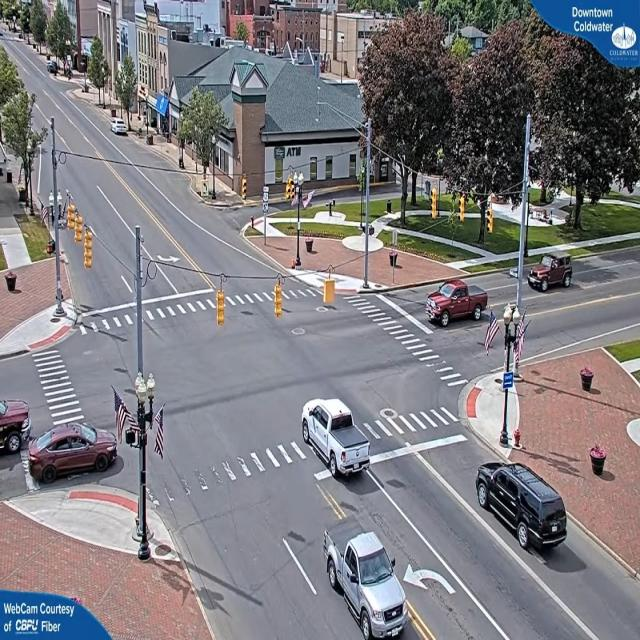car: (324, 526, 412, 639), (477, 463, 570, 552), (301, 399, 371, 481), (30, 422, 118, 482), (427, 278, 487, 326), (524, 251, 575, 294), (112, 120, 130, 136)
